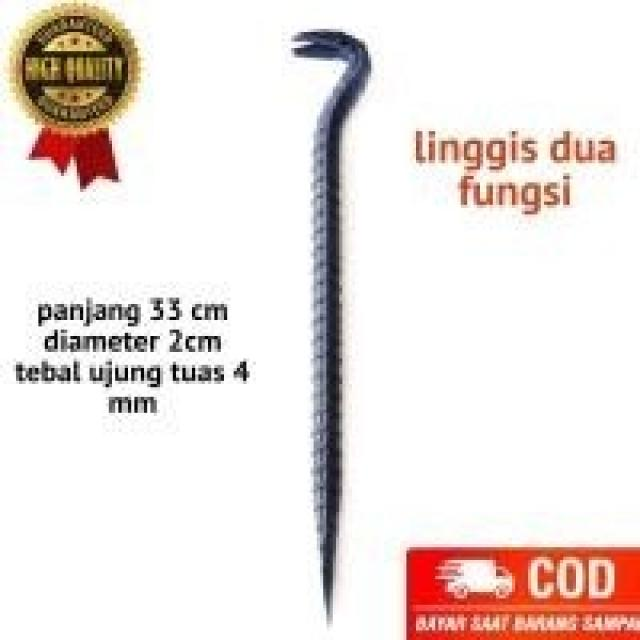Linggis: (292, 29, 372, 621)
